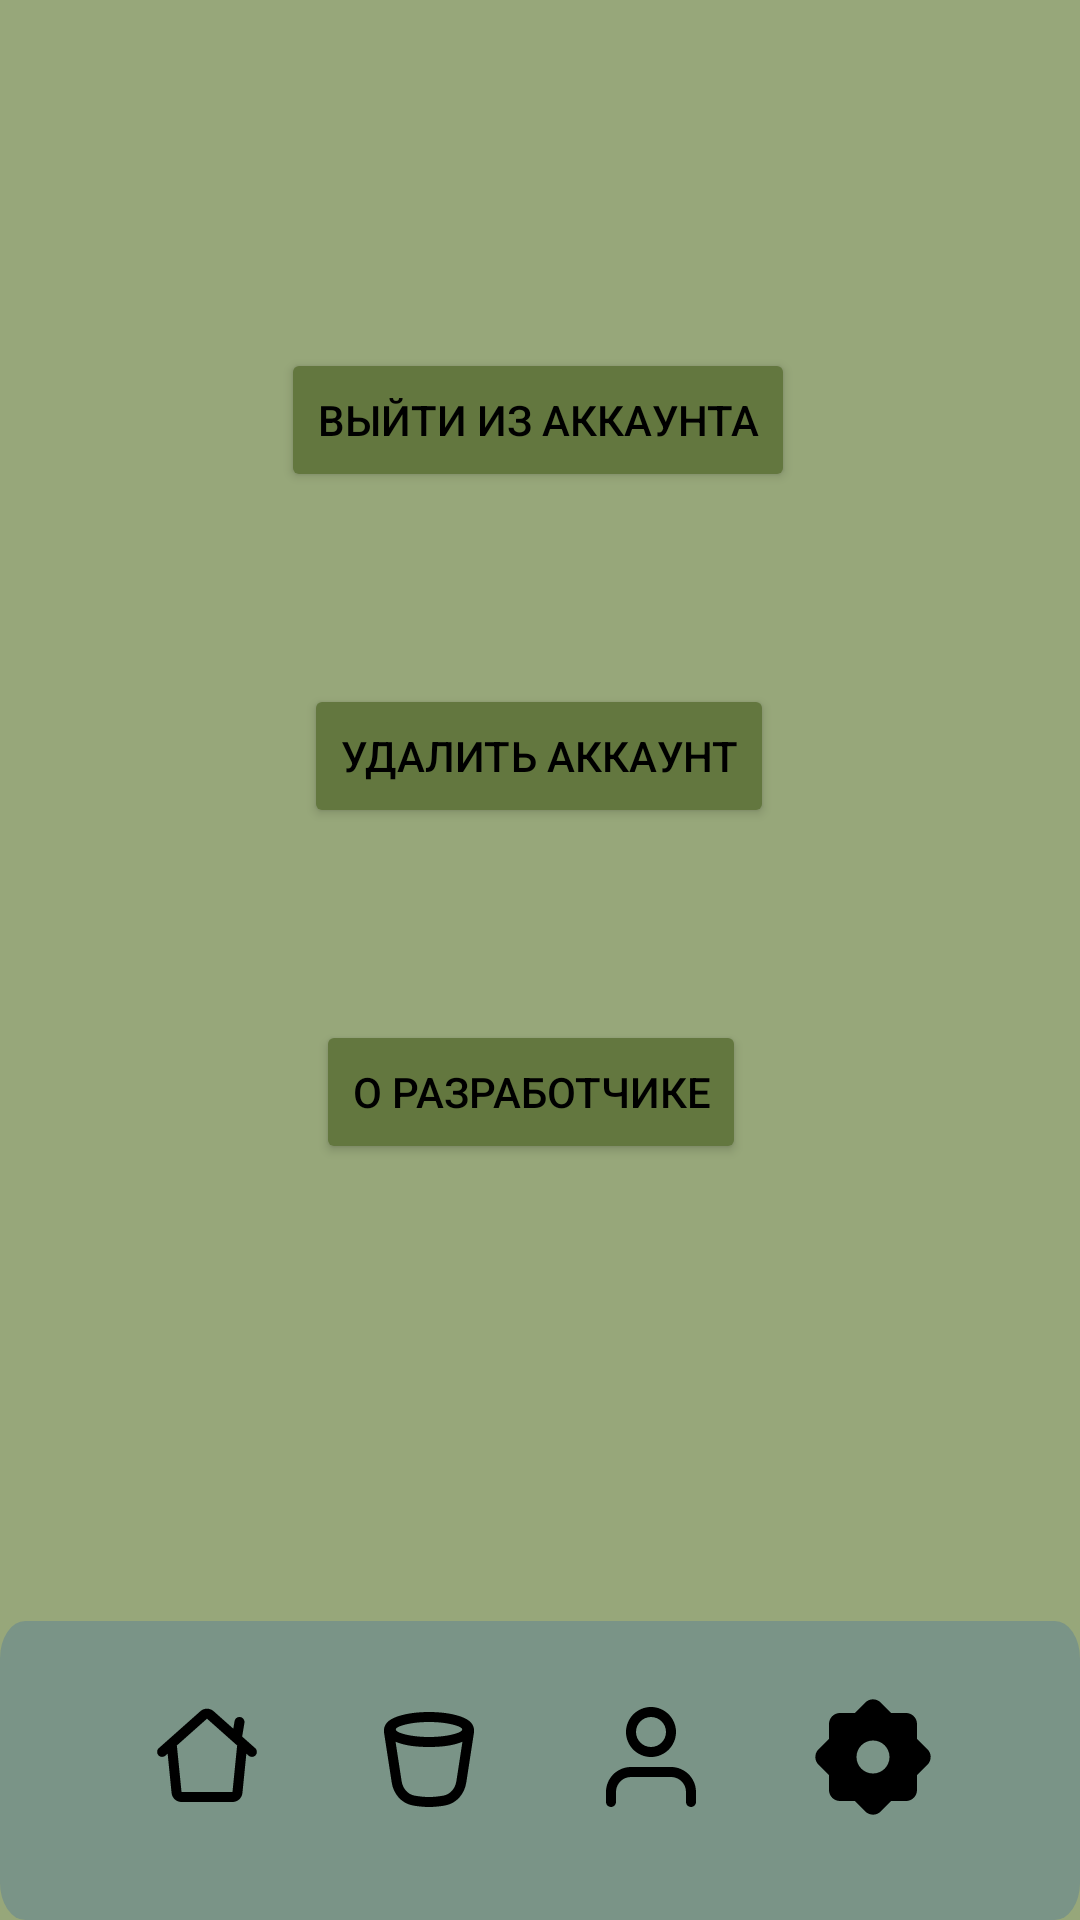

Icons on this 1080*1920 Android screen, each with the point to tap as (x,y):
atsettings: (873,1757)
home: (207,1755)
profile: (651,1757)
